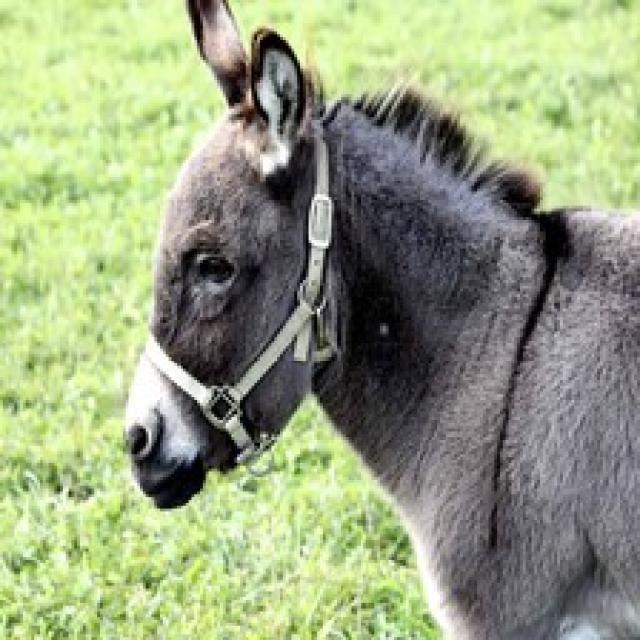Donkey: (120, 0, 637, 637)
